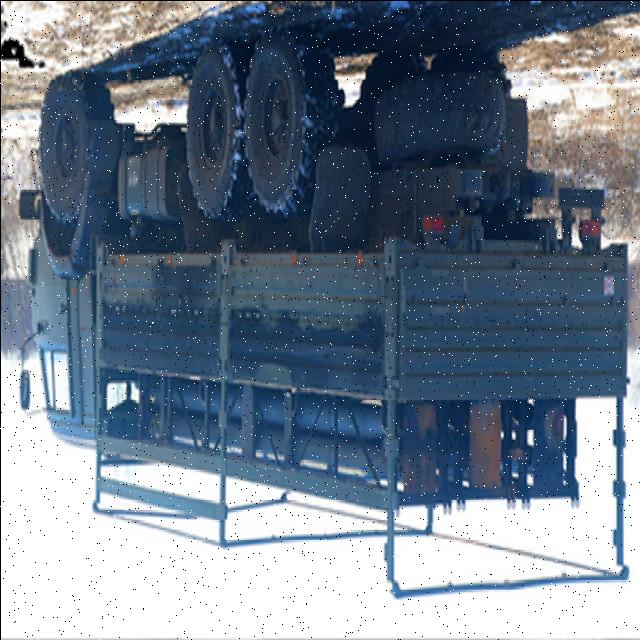TRUCK: (22, 38, 632, 600)
